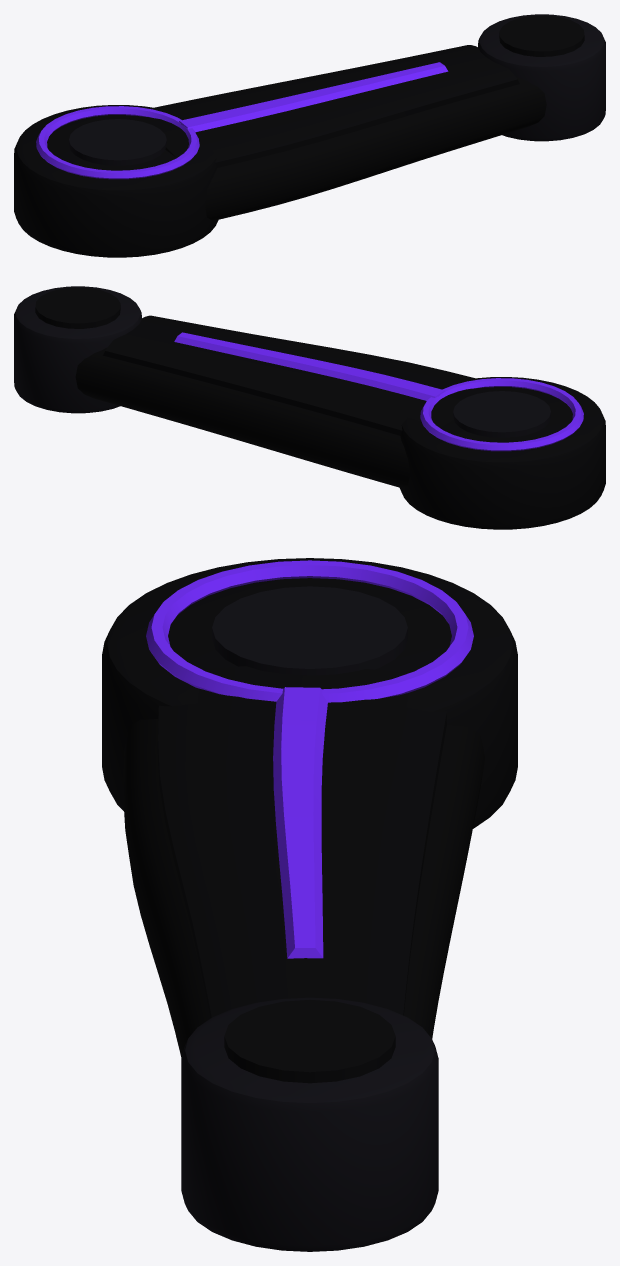
The model's file is femur_l.obj.
The picture shows the model from 3 angles, top to bottom: view 1: azimuth 30°, elevation 25°; view 2: azimuth 150°, elevation 25°; view 3: azimuth 270°, elevation 25°; orthographic projection. The views are drawn at different scales.
Visible parts, largest first — view 1: femur_l; view 2: femur_l; view 3: femur_l.
Part boxes in pixels (<box>): femur_l: <box>14,14,605,257</box>; femur_l: <box>14,286,605,529</box>; femur_l: <box>102,558,517,1251</box>.
Bounding box in the file's own units: 0.215 × 0.03 × 0.068.
